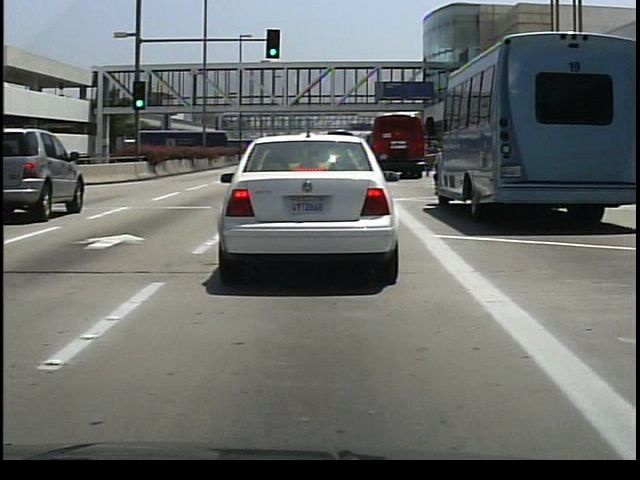person: (427, 136, 438, 176)
